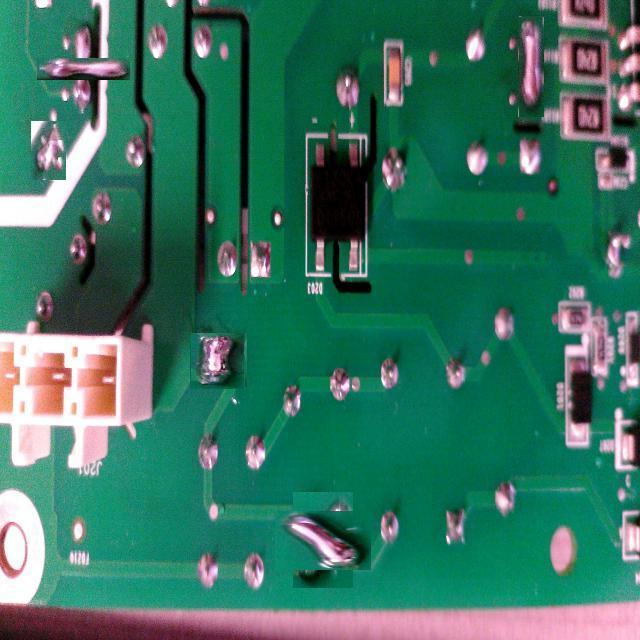Short_circuit: (284, 501, 362, 579), (54, 40, 112, 98), (191, 333, 246, 388), (518, 16, 544, 118), (32, 122, 68, 182)
